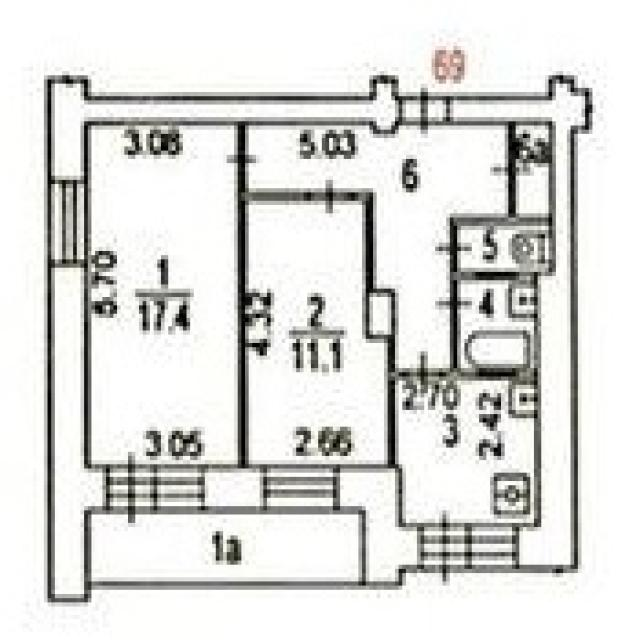Bathrooms: (461, 285, 535, 366), (462, 229, 549, 268)
Corridors: (249, 127, 506, 366), (93, 516, 359, 582), (518, 126, 548, 212)
Doors: (417, 506, 468, 592), (101, 450, 154, 529), (399, 80, 451, 140), (398, 346, 452, 397), (484, 141, 534, 195), (222, 126, 262, 190), (432, 281, 475, 330), (430, 226, 474, 270), (305, 177, 353, 216)
LBwalls: (45, 266, 103, 609), (519, 271, 581, 577), (340, 463, 417, 592), (43, 75, 90, 177), (207, 465, 261, 516)
Offices: (90, 127, 235, 465), (250, 203, 385, 461), (403, 385, 535, 523)
Walls: (452, 70, 595, 271), (91, 69, 399, 137), (235, 186, 305, 466), (353, 186, 398, 464), (449, 330, 537, 383), (447, 194, 549, 227), (448, 267, 553, 282), (505, 125, 517, 141)
Windows: (261, 463, 340, 515), (48, 178, 90, 266), (153, 465, 207, 515), (467, 521, 518, 573)
